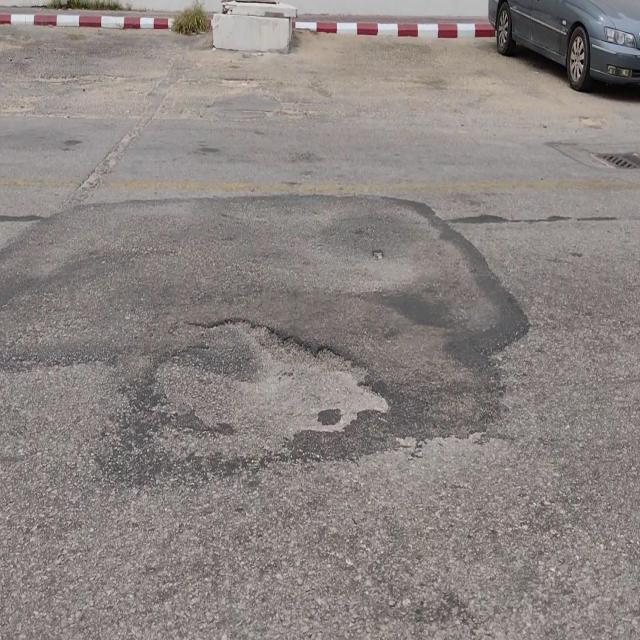Potholes: (172, 327, 390, 440)
